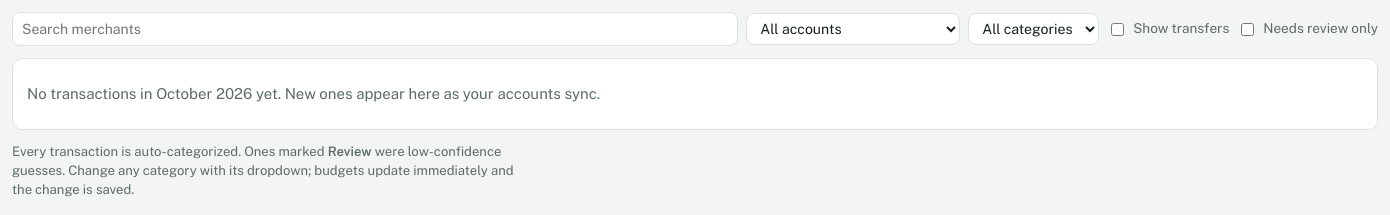
Test: LedgerView › empty and error states use the prototype wording
Expected: the text "No transactions in October 2026 yet. New ones appear here as your accounts sync." is shown, [27, 85, 600, 102]
Click the checkbox labelled "Show transfers" at x=1118, y=29, box [1111, 23, 1124, 36]
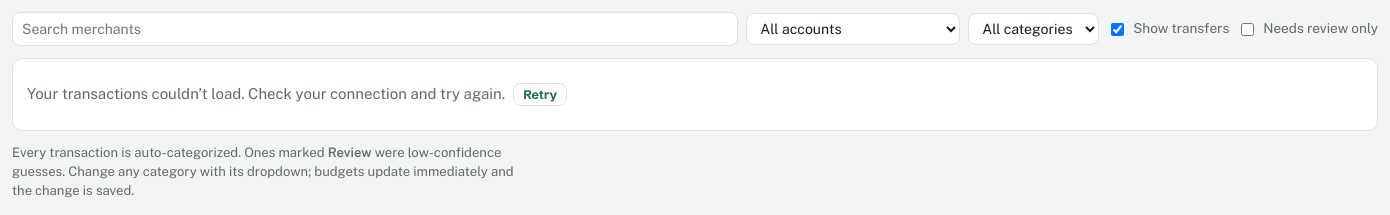
Now the message shows "Your transactions couldn’t load", box [27, 85, 505, 102]
